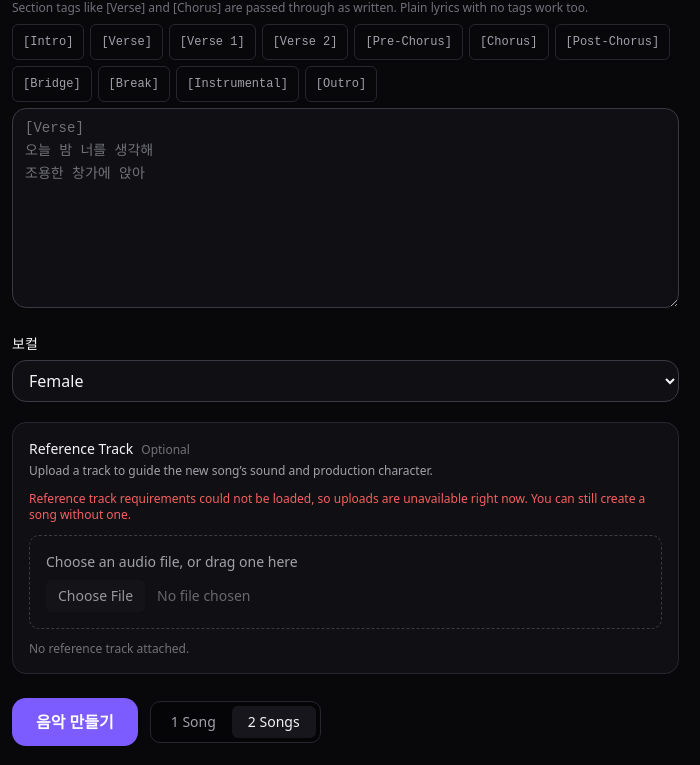
Test: form validation › disables the lyrics field for instrumental tracks
The width and height of the screenshot is (700, 765).
(page scrolled)
Select "Instrumental" in the dropdown labelled "보컬" at (346, 381), box x1=12 y1=360 x2=679 y2=402
(page scrolled)
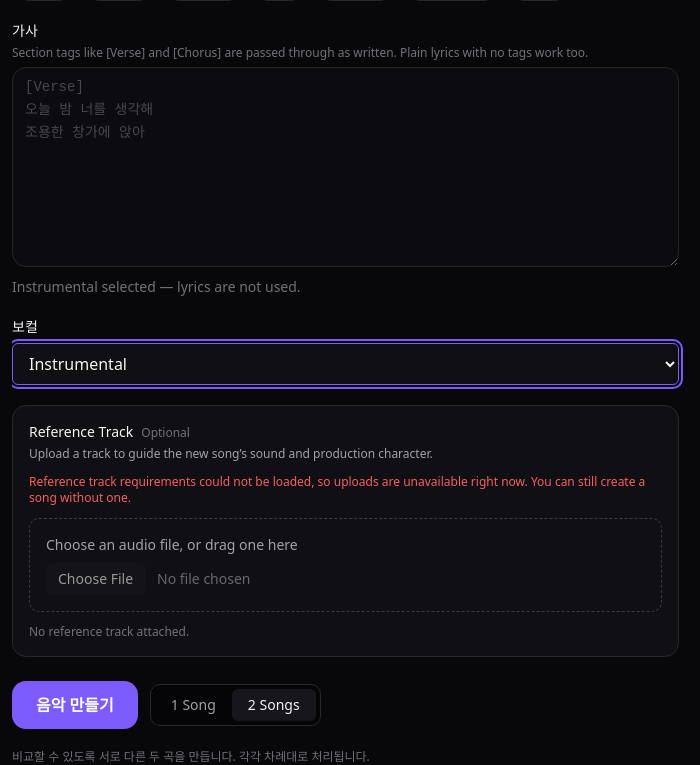
Result: the text box labelled "가사" is disabled at x1=12 y1=67 x2=679 y2=267
Result: the text "Instrumental selected — lyrics are not used." is shown at x1=12 y1=277 x2=301 y2=296
